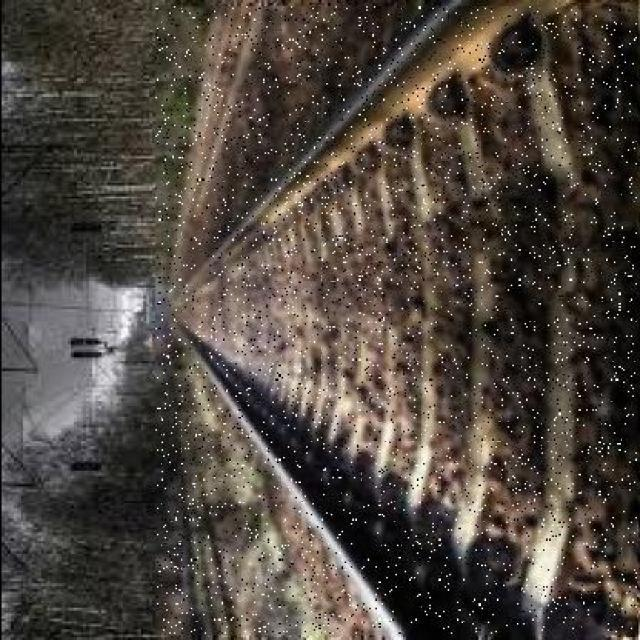rail: (155, 7, 635, 634)
